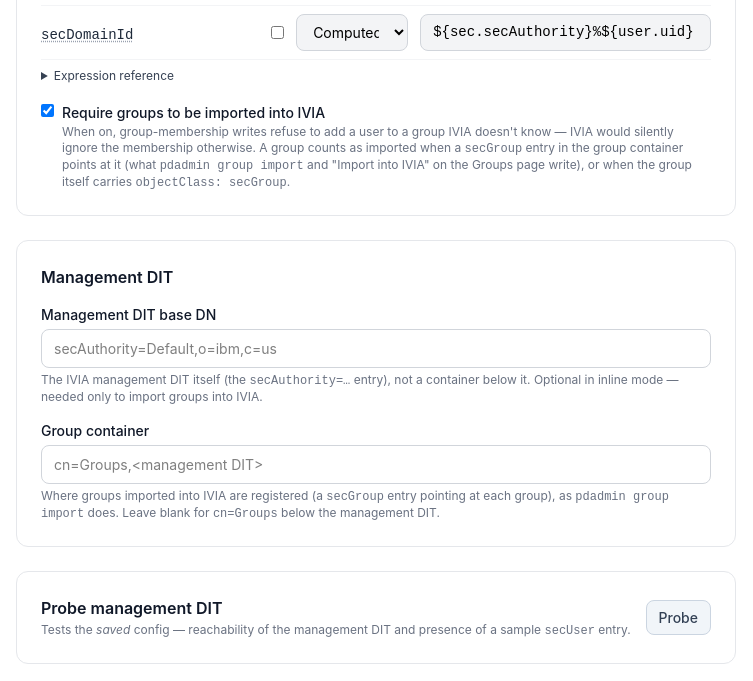
Test case: IsvaConfigView probe gating › Probe surfaces secUser attribute mismatches
(page scrolled)
Click the button "Probe".
click(678, 618)  # box [646,600,711,635]
(page scrolled)
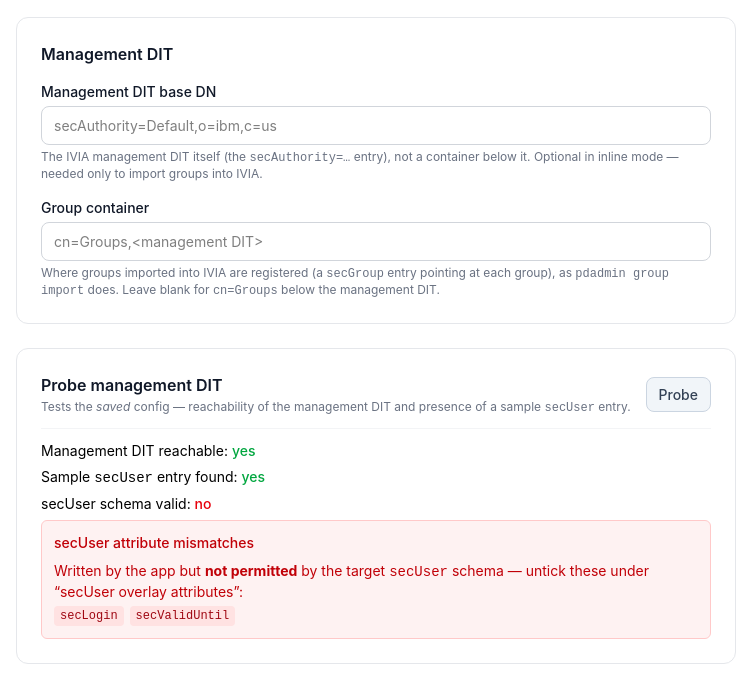
Result: the element with test id "probe-attr-mismatch" is shown at [41,520,711,639]
Result: the element with test id "probe-attr-mismatch" shows "secLogin" at [60,609,118,623]
Result: the element with test id "probe-attr-mismatch" shows "secValidUntil" at [136,609,229,623]
